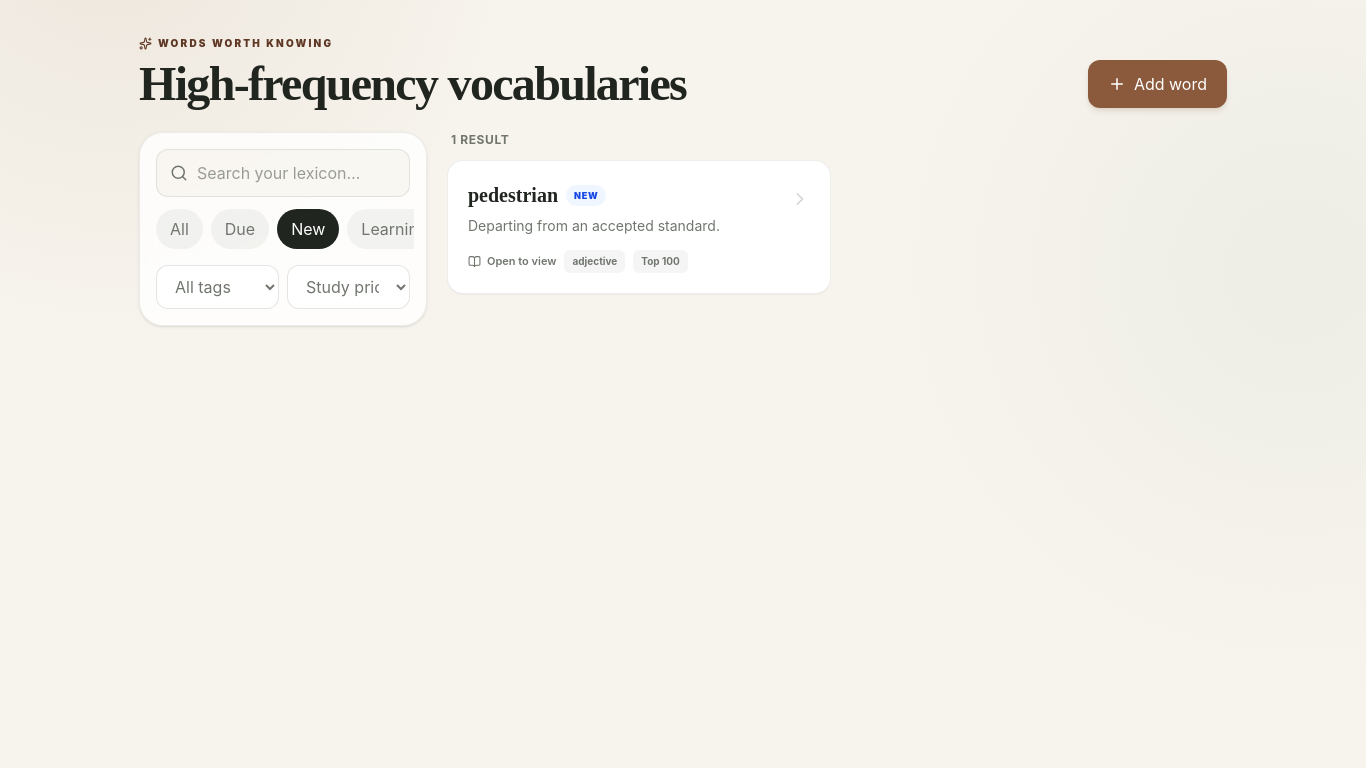
Test: WordsPage vocabulary deep links › keeps a viewed word in the New-filtered list
The image size is (1366, 768).
Expected: the text "1 result" is shown, [451,132,509,148]
Step 1. Click the button "pedestrian" → (639, 227), box [447,160,831,294]
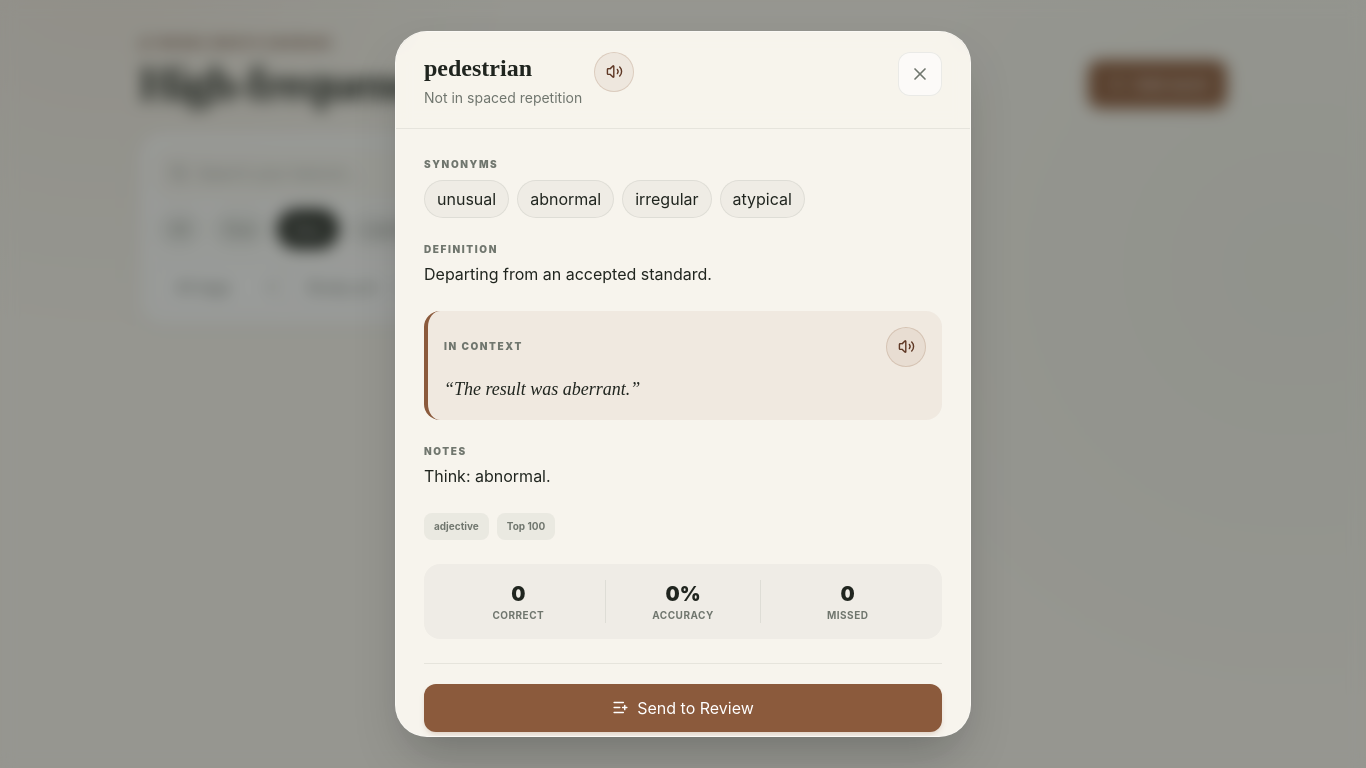
Expected: the dialog is shown
